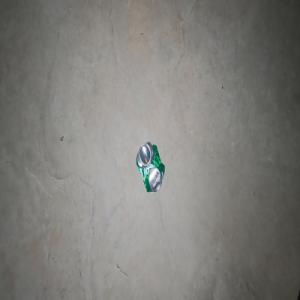SodaCan: (135, 141, 164, 192)
